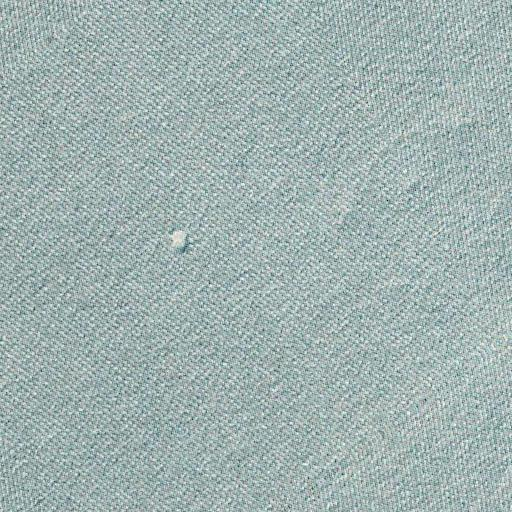knot: (157, 221, 203, 261)
